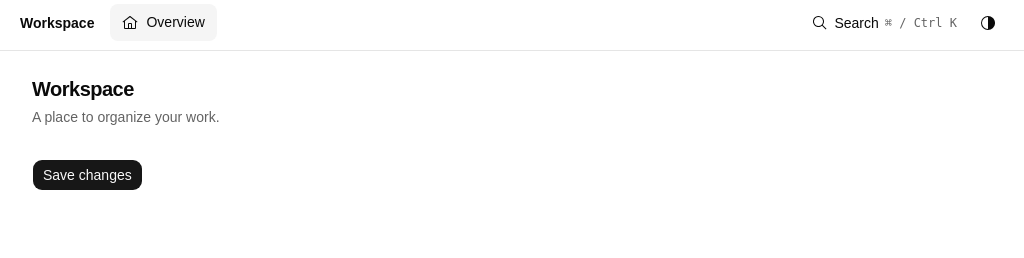
Test: saves through the installed button
Click the button "Save changes": click(87, 175) top-left (32, 159), bottom-right (143, 191)
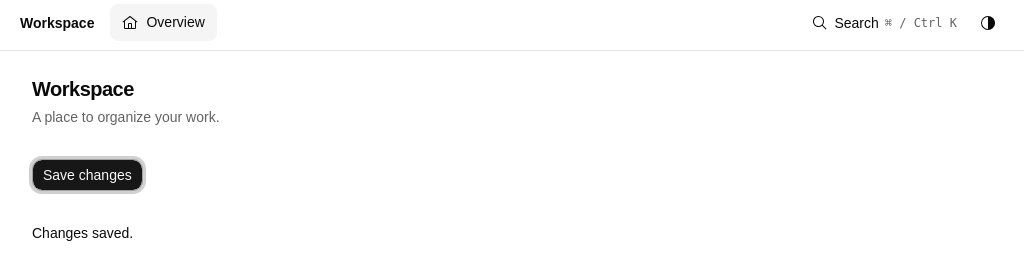
Result: the text "Changes saved." is shown at top-left (32, 225), bottom-right (133, 241)
